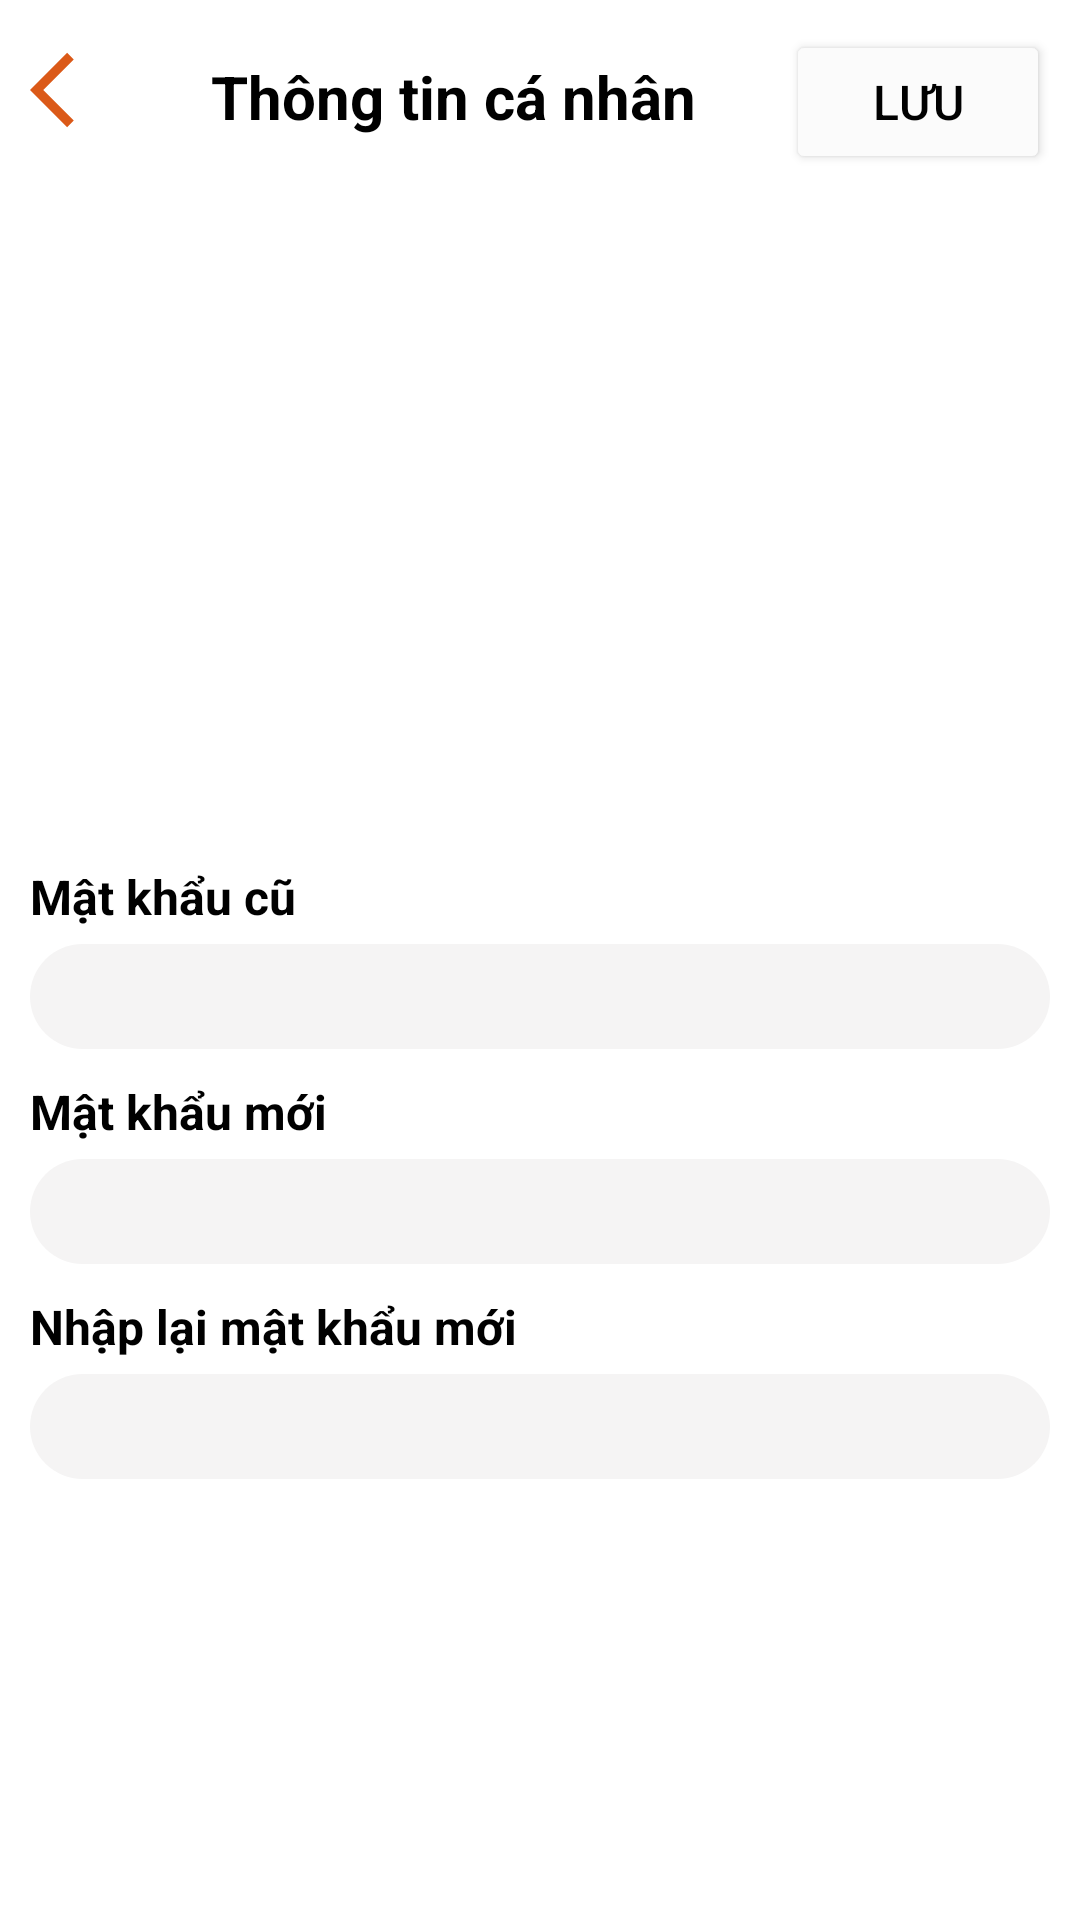

Screen size 1080w x 1920h. Icon name, then its box in pixels as box=[x1, y1, x2, y2]:
arrow back: box=[30, 53, 74, 127]
